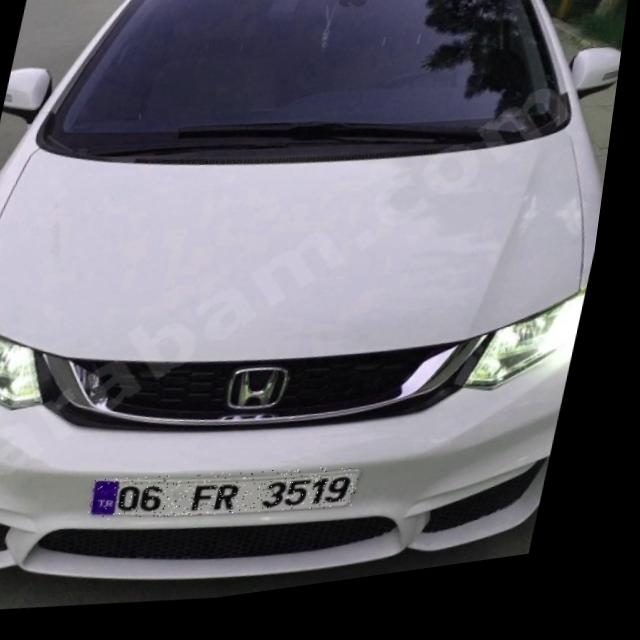license_plate: (98, 454, 378, 549)
